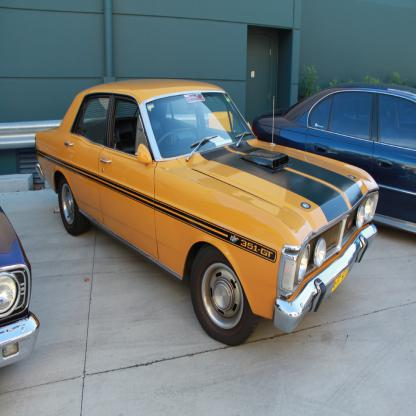Car: (35, 77, 380, 347), (252, 82, 416, 233), (0, 205, 40, 368)
